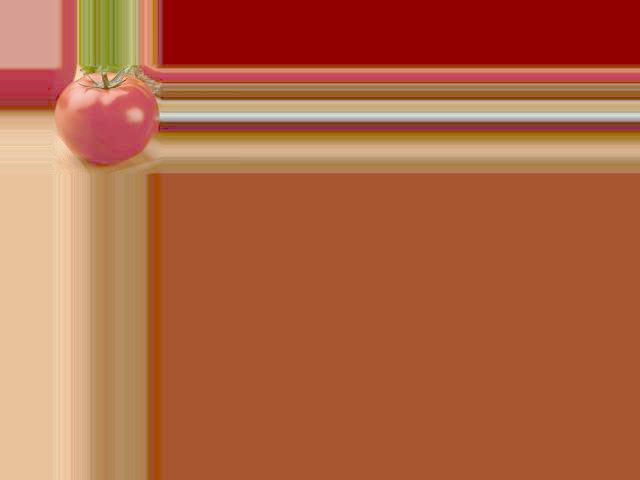tomato: (54, 72, 158, 162)
